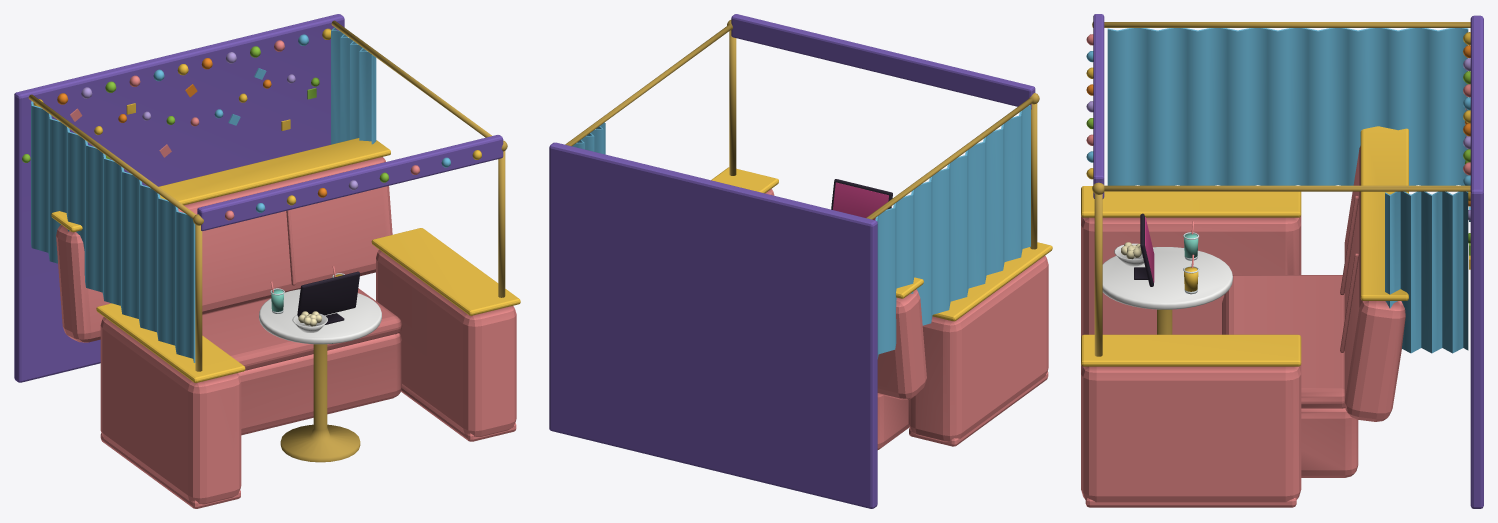
The model's file is partyBooth.glb.
3 renders of one model, left to right at view 1: azimuth 30°, elevation 25°; view 2: azimuth 150°, elevation 25°; view 3: azimuth 270°, elevation 25°, orthographic. The views are drawn at different scales.
Parts seen in each view (by area): view 1: body, curtain; view 2: body, curtain; view 3: body, curtain.
Boxes of the visible parts, box(x1,y1,x2,y2) form: body: box(14, 14, 520, 508); curtain: box(31, 101, 195, 362); body: box(549, 14, 1052, 508); curtain: box(875, 105, 1030, 358); body: box(1081, 14, 1483, 508); curtain: box(1107, 28, 1468, 185).
Size of the model in its own units: 1.9 by 1.64 by 1.83.
